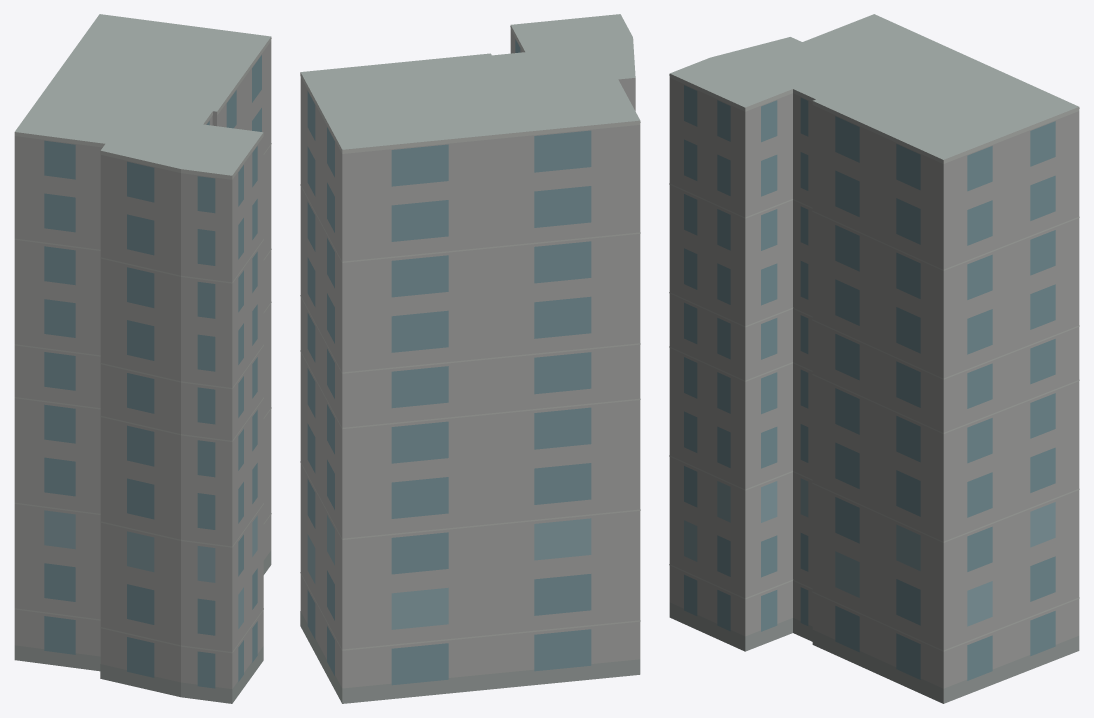
The model's file is survey-upis-32756855.glb.
3 views of the same model, side by side, from view 1: azimuth 30°, elevation 25°; view 2: azimuth 150°, elevation 25°; view 3: azimuth 270°, elevation 25° (orthographic). The views are drawn at different scales.
Visible parts, largest first — view 1: survey-upis-32756855.tmp; view 2: survey-upis-32756855.tmp; view 3: survey-upis-32756855.tmp.
Part boxes in pixels (x1,y1,x2,y2): survey-upis-32756855.tmp: (14, 14, 271, 703); survey-upis-32756855.tmp: (300, 14, 640, 703); survey-upis-32756855.tmp: (669, 14, 1079, 703).
Size of the model in its own units: 18.34 by 31.83 by 21.75.
